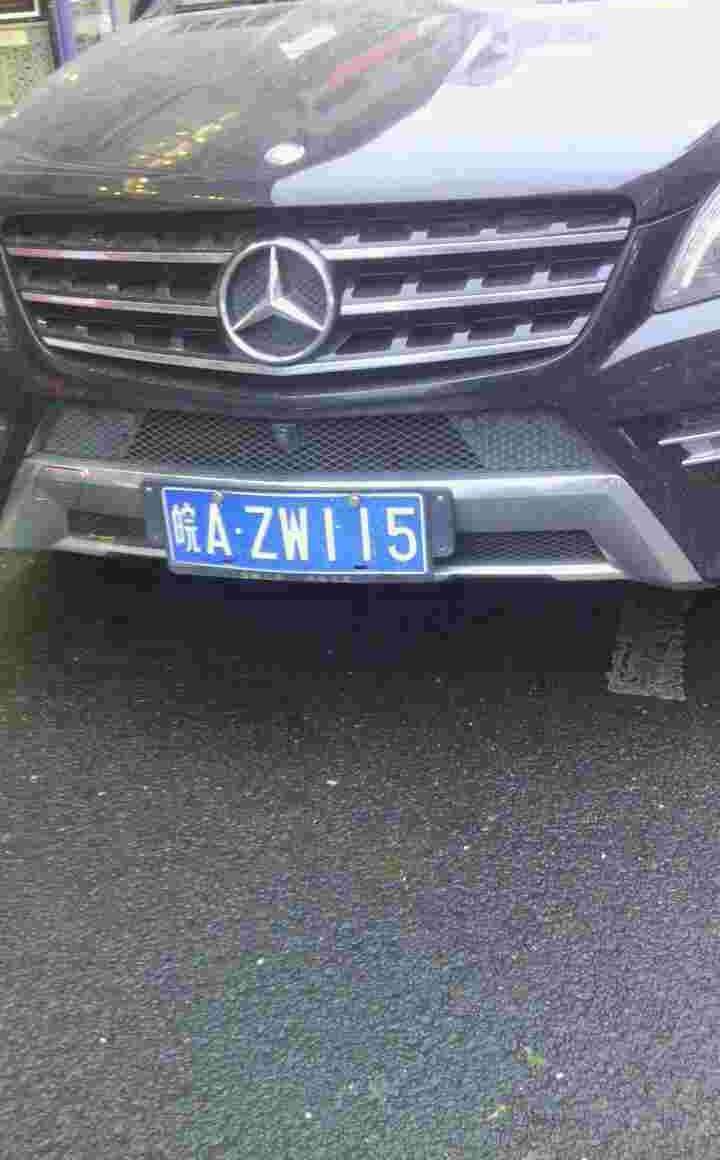license_plate: (168, 487, 416, 584)
